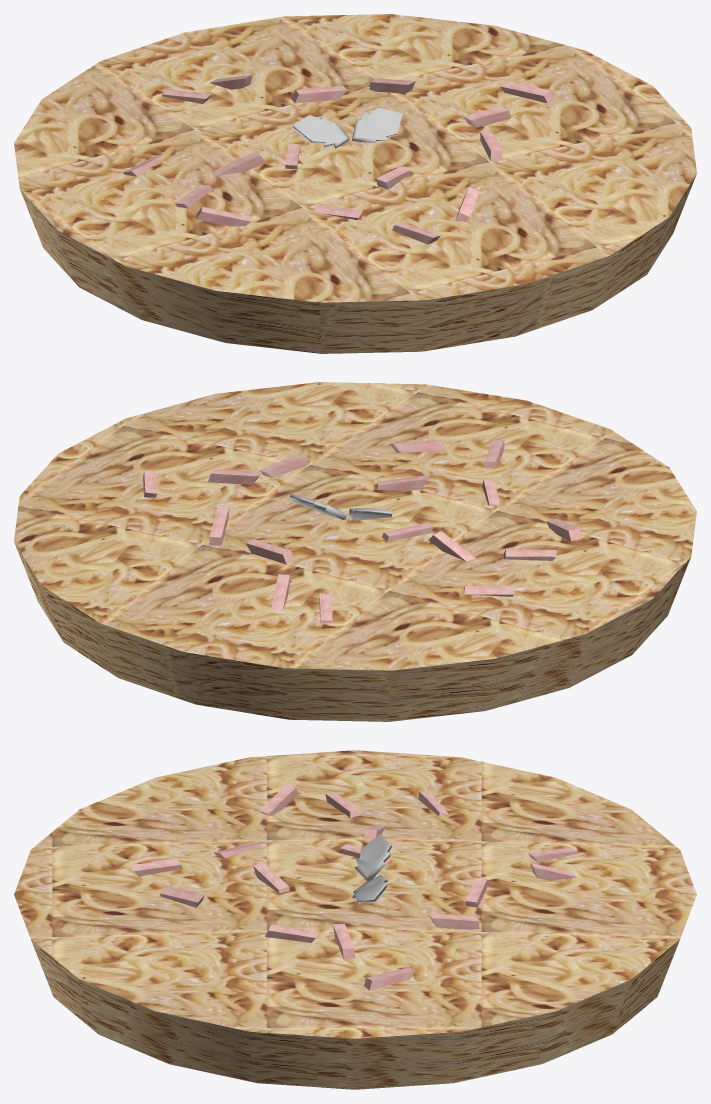
The model's file is CarbonaraInPan.fbx.
The picture shows the model from 3 angles, top to bottom: view 1: azimuth 30°, elevation 25°; view 2: azimuth 150°, elevation 25°; view 3: azimuth 270°, elevation 25°; orthographic projection.
Parts seen in each view (by area): view 1: pCylinder1, pCube19, pCube18, pCube10, pCube8, pCube12, pCube5, pCube13, pCube14, pCube16; view 2: pCylinder1, pCube10, pCube5, pCube13, pCube9, pCube20, pCube2, pCube14, pCube3, pCube19, pCube15; view 3: pCylinder1, pCube18, pCube20, pCube14, pCube12, pCube19, pCube8, pCube16, pCube15, pCube9, pCube5.
Part boxes in pixels (bbox=[...]): pCylinder1: bbox=[14, 14, 696, 353]; pCube19: bbox=[351, 107, 402, 142]; pCube18: bbox=[291, 115, 349, 148]; pCube10: bbox=[291, 86, 346, 103]; pCube8: bbox=[196, 207, 251, 226]; pCube12: bbox=[500, 80, 553, 103]; pCube5: bbox=[463, 106, 510, 127]; pCube13: bbox=[213, 151, 265, 176]; pCube14: bbox=[369, 78, 415, 93]; pCube16: bbox=[392, 222, 440, 244]; pCylinder1: bbox=[14, 382, 696, 721]; pCube10: bbox=[245, 539, 294, 564]; pCube5: bbox=[208, 469, 261, 484]; pCube13: bbox=[429, 531, 475, 561]; pCube9: bbox=[376, 475, 427, 490]; pCube20: bbox=[259, 455, 307, 478]; pCube2: bbox=[503, 549, 556, 560]; pCube14: bbox=[209, 506, 229, 545]; pCube3: bbox=[382, 522, 433, 541]; pCube19: bbox=[289, 494, 346, 519]; pCube15: bbox=[390, 441, 444, 452]; pCylinder1: bbox=[14, 750, 696, 1089]; pCube18: bbox=[354, 834, 391, 881]; pCube20: bbox=[265, 924, 319, 942]; pCube14: bbox=[428, 913, 479, 929]; pCube12: bbox=[364, 967, 414, 990]; pCube19: bbox=[352, 874, 387, 903]; pCube8: bbox=[259, 784, 298, 815]; pCube16: bbox=[130, 858, 182, 876]; pCube15: bbox=[160, 885, 204, 907]; pCube9: bbox=[253, 862, 289, 893]; pCube5: bbox=[333, 923, 355, 959].
Size of the model in its own units: 10.6 by 1.69 by 10.6.
